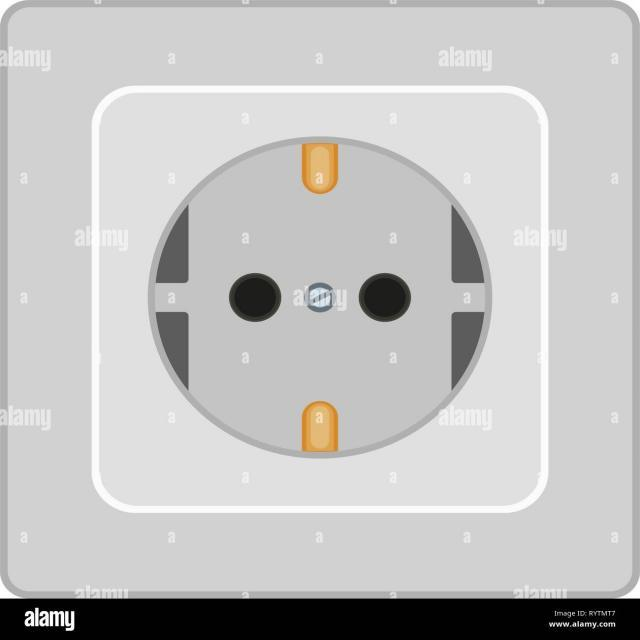typeb: (52, 62, 600, 540)
